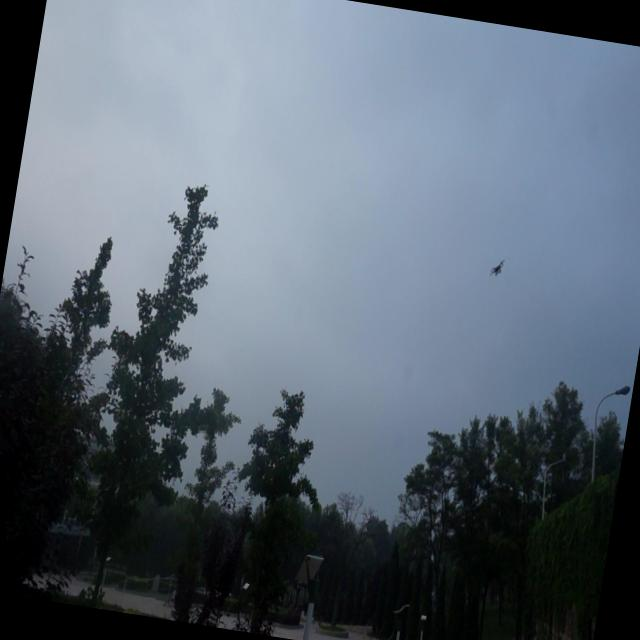drone: (488, 253, 508, 283)
